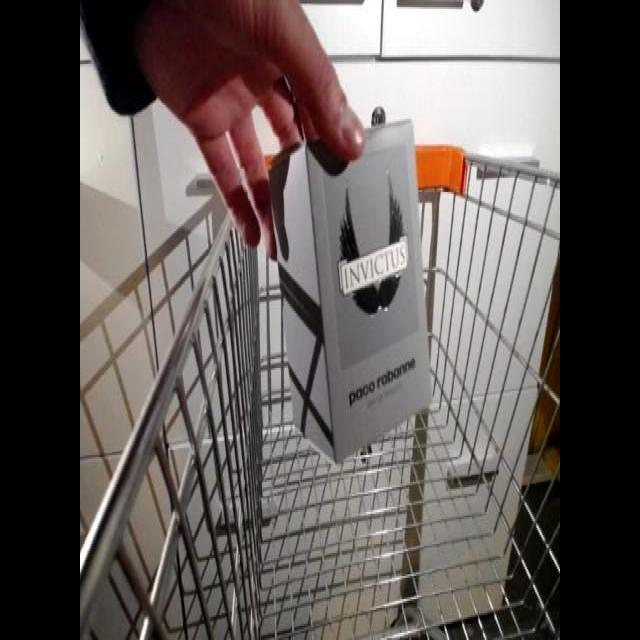Paco Rabanne: (267, 108, 445, 463)
